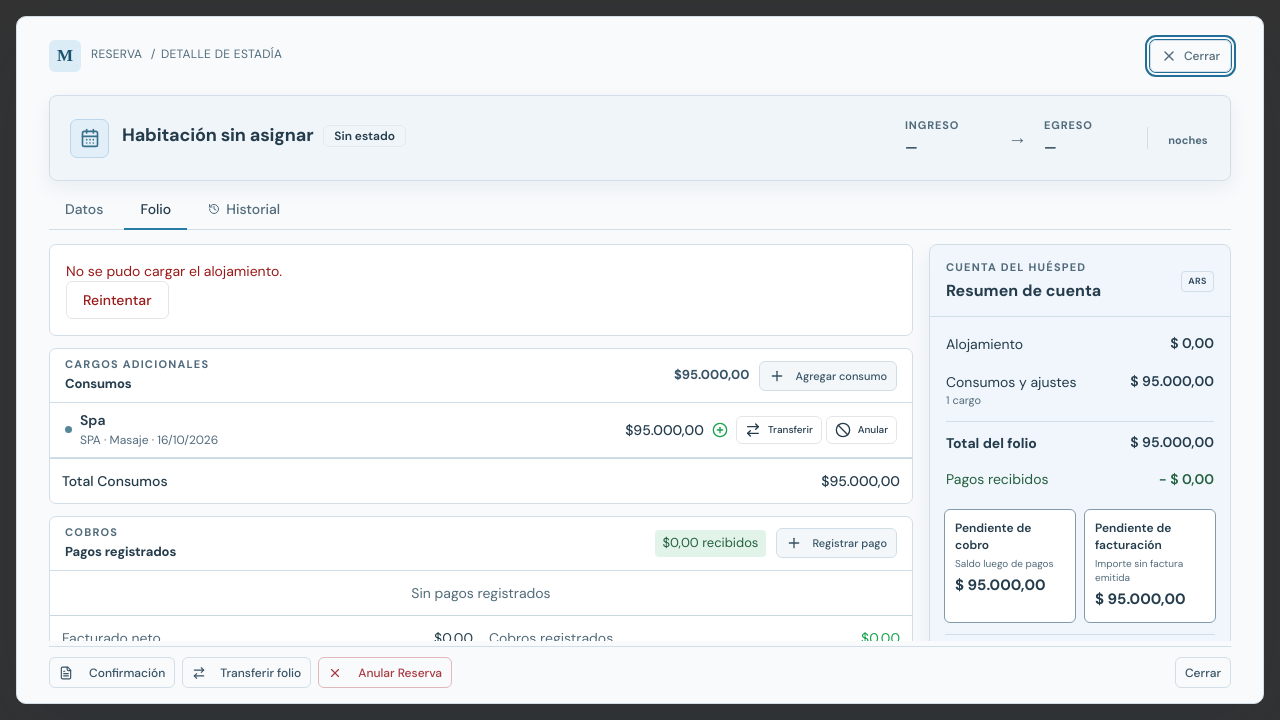
requires a reason before cancelling the SPA room charge and refreshes its cancelled state
Click the tab with test id "tab-folio" at (156, 210), box [124, 190, 187, 230]
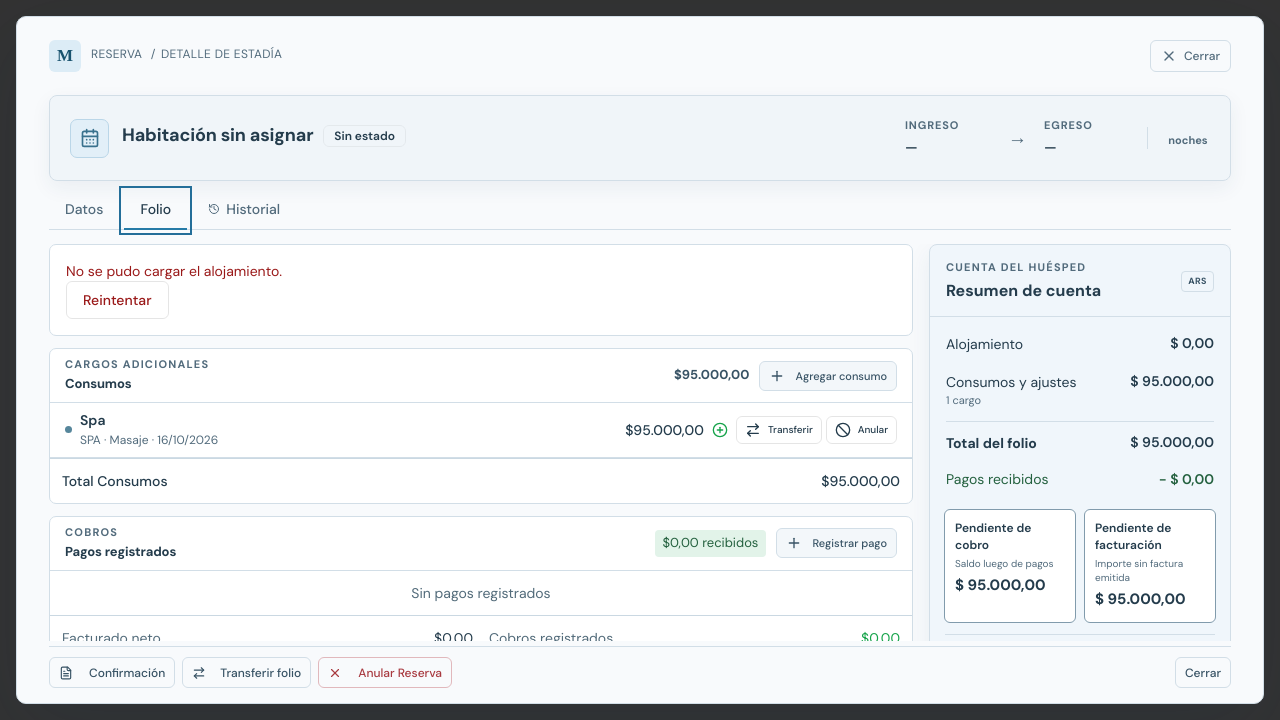
Click the button with test id "button-anular-charge-spa-charge" at (861, 430), box [826, 416, 897, 444]
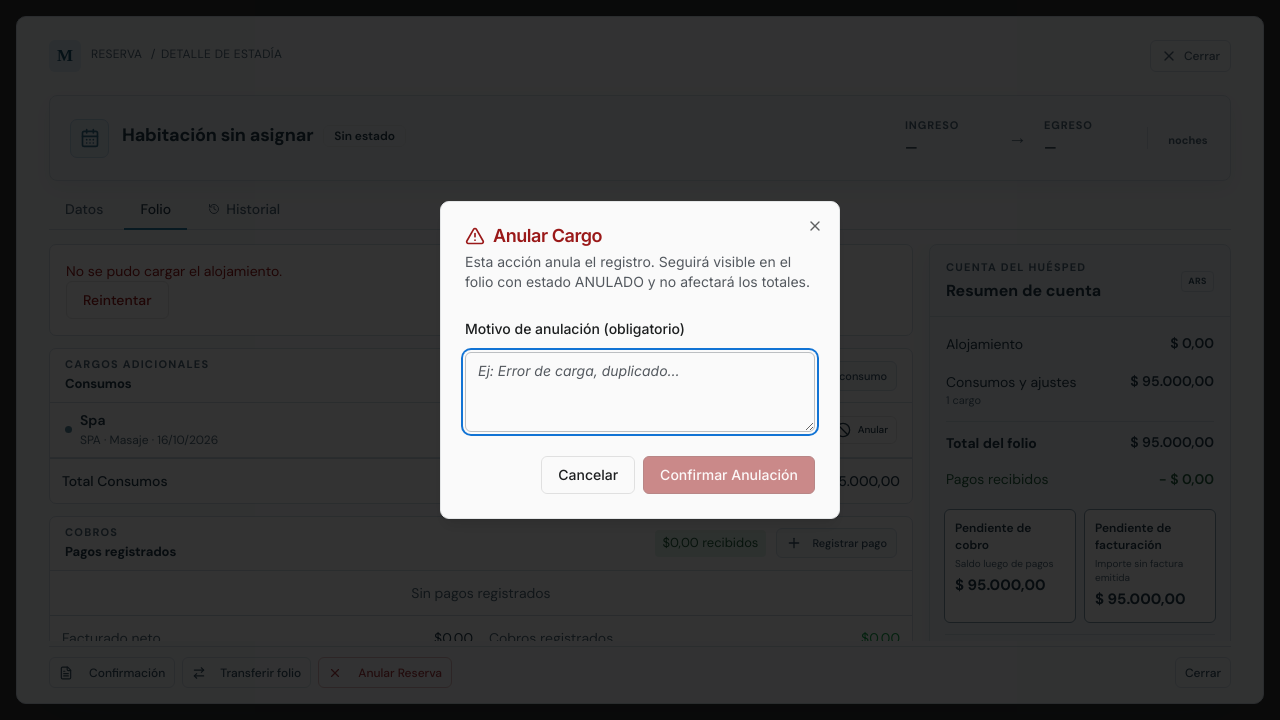
Result: the button with test id "button-confirm-anular" is disabled at [643, 456, 815, 494]
Type "Error de carga" into the text box with test id "input-motivo-anulacion" at (640, 392), box [465, 352, 815, 432]
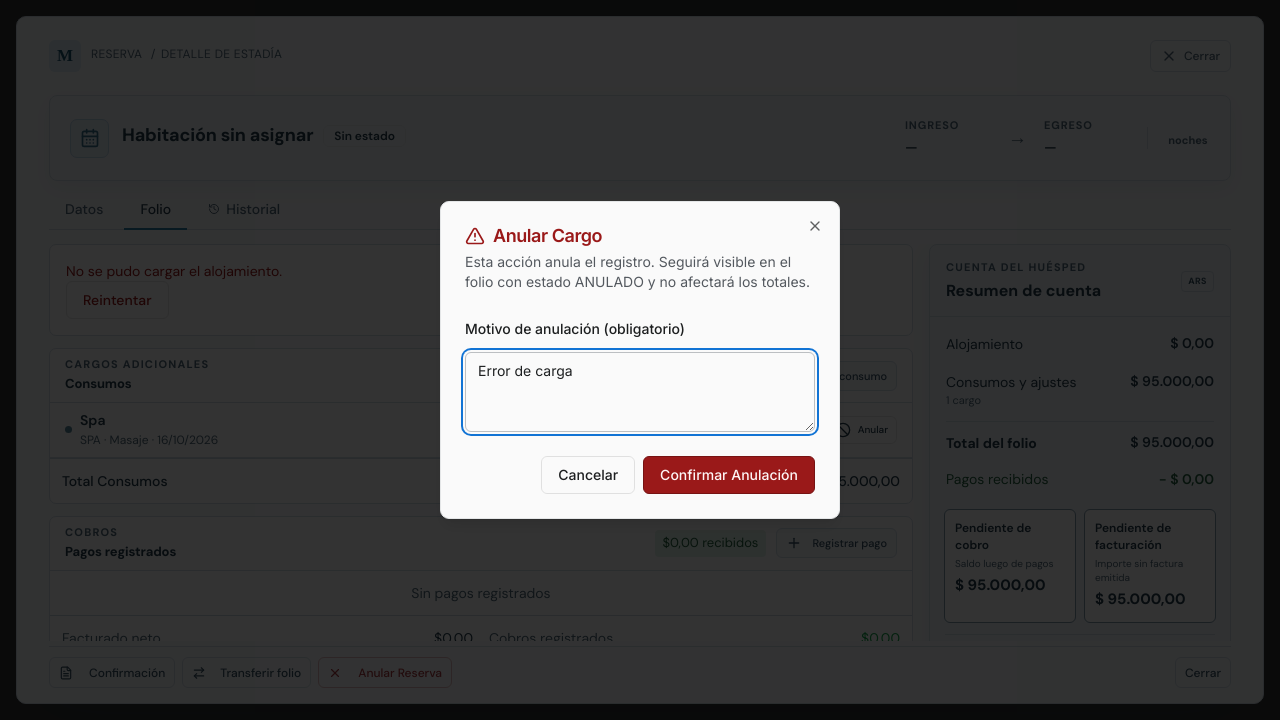
Result: the button with test id "button-confirm-anular" is enabled
Click the button with test id "button-confirm-anular" at (729, 475), box [643, 456, 815, 494]
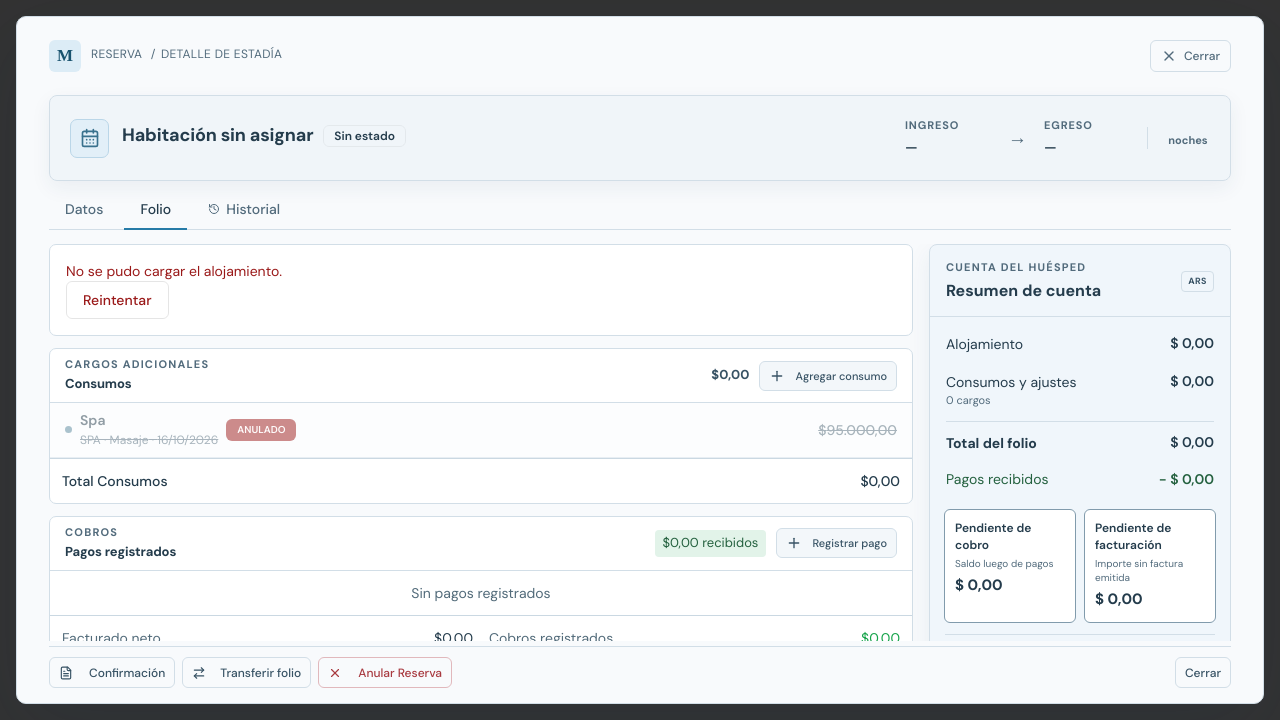
Result: the text box with test id "input-motivo-anulacion" is gone
Result: the button with test id "button-anular-charge-spa-charge" is gone
